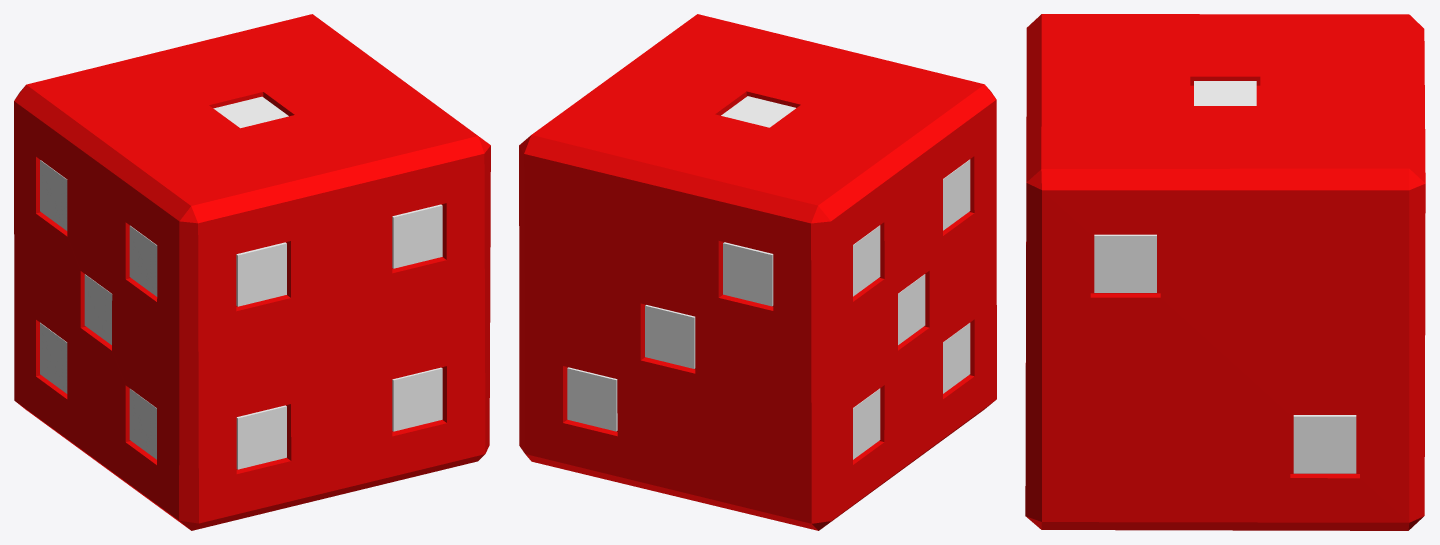
The model's file is 0_dice_red.gltf.
The picture shows the model from 3 angles, left to right: view 1: azimuth 30°, elevation 25°; view 2: azimuth 150°, elevation 25°; view 3: azimuth 270°, elevation 25°; orthographic projection. The views are drawn at different scales.
Parts seen in each view (by area): view 1: D6_Dice_Red; view 2: D6_Dice_Red; view 3: D6_Dice_Red.
Boxes of the visible parts, x1,y1,x2,y2 form: D6_Dice_Red: (14,14,490,530); D6_Dice_Red: (519,14,996,530); D6_Dice_Red: (1025,14,1425,530).
Bounding box in the file's own units: 2 × 2.01 × 2.01.
